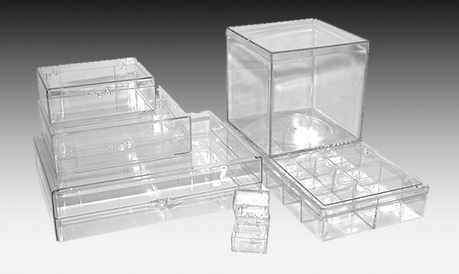PlasticBox: (222, 13, 373, 158), (229, 188, 273, 223)
